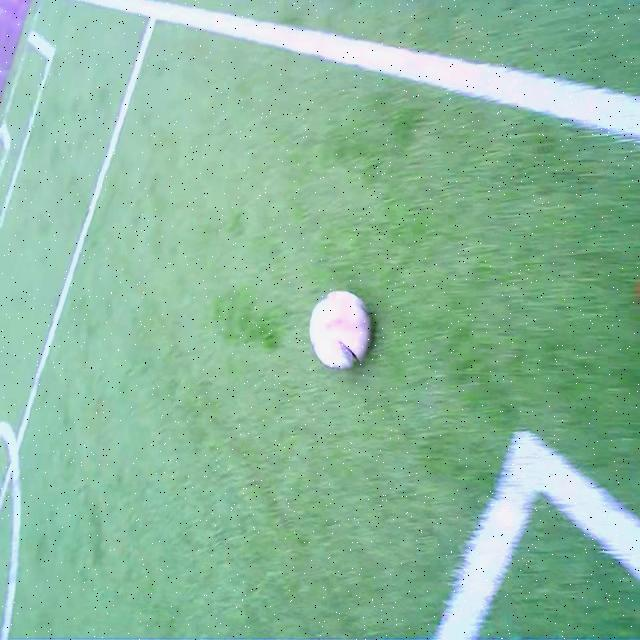ball: (309, 290, 370, 368)
